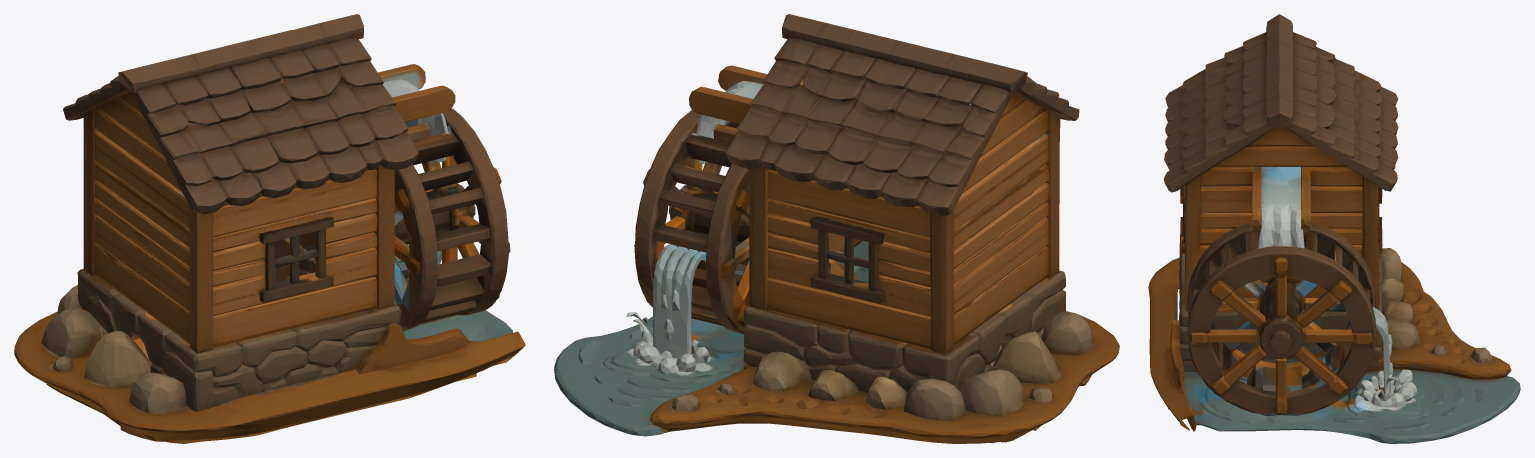
Rendered from molino_harinero.glb.
The picture shows the model from 3 angles, left to right: view 1: azimuth 30°, elevation 25°; view 2: azimuth 150°, elevation 25°; view 3: azimuth 270°, elevation 25°; orthographic projection. The views are drawn at different scales.
Parts seen in each view (by area): view 1: tripo_node_5dce2a2c-5ba6-4197-86a8-42175c0cb469; view 2: tripo_node_5dce2a2c-5ba6-4197-86a8-42175c0cb469; view 3: tripo_node_5dce2a2c-5ba6-4197-86a8-42175c0cb469.
Part boxes in pixels (box(x1,y1,x2,y2)): tripo_node_5dce2a2c-5ba6-4197-86a8-42175c0cb469: box(14, 14, 525, 443); tripo_node_5dce2a2c-5ba6-4197-86a8-42175c0cb469: box(554, 14, 1119, 443); tripo_node_5dce2a2c-5ba6-4197-86a8-42175c0cb469: box(1148, 14, 1520, 443).
Bounding box in the file's own units: 0.9998 × 0.7044 × 0.8486.
Materials: 1 (1 with a texture image).
